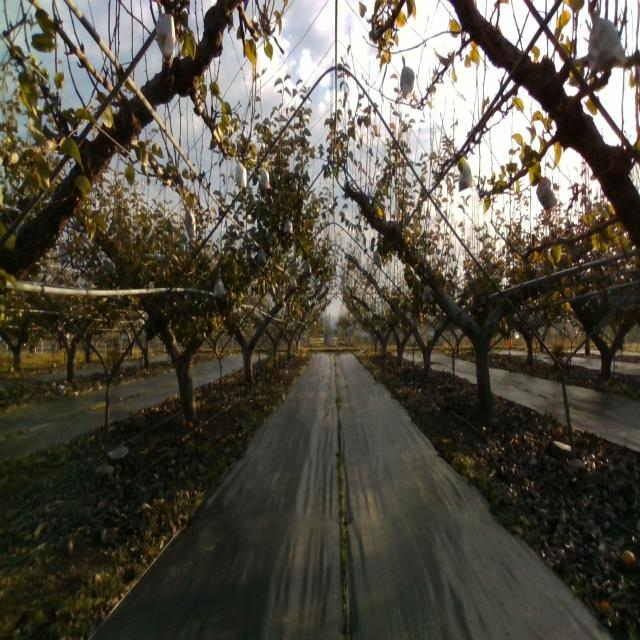pearbags: (588, 9, 628, 74), (155, 0, 176, 69), (536, 176, 558, 210), (400, 56, 415, 99), (182, 199, 196, 237), (234, 156, 247, 189), (459, 162, 472, 192), (260, 162, 270, 190), (213, 278, 226, 299), (422, 284, 433, 303)
